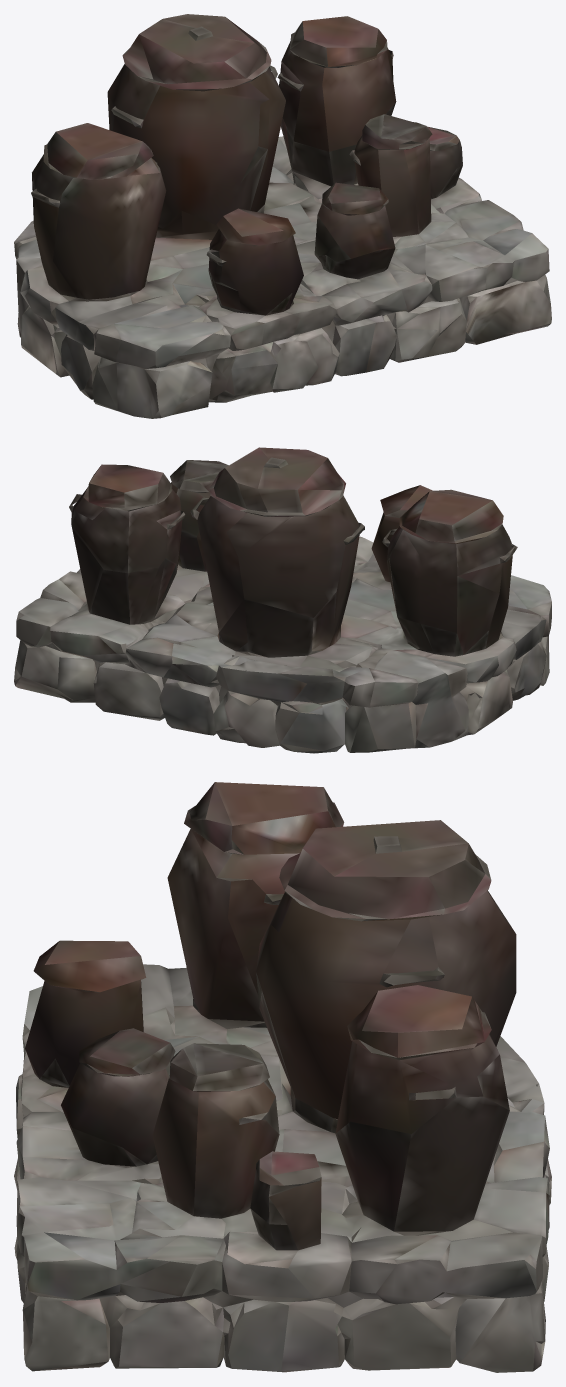
The model's file is jangdok.glb.
The picture shows the model from 3 angles, top to bottom: view 1: azimuth 30°, elevation 25°; view 2: azimuth 150°, elevation 25°; view 3: azimuth 270°, elevation 25°; orthographic projection. The views are drawn at different scales.
Size of the model in its own units: 1.89 by 1.07 by 1.4.
1 material, 1 textured.
